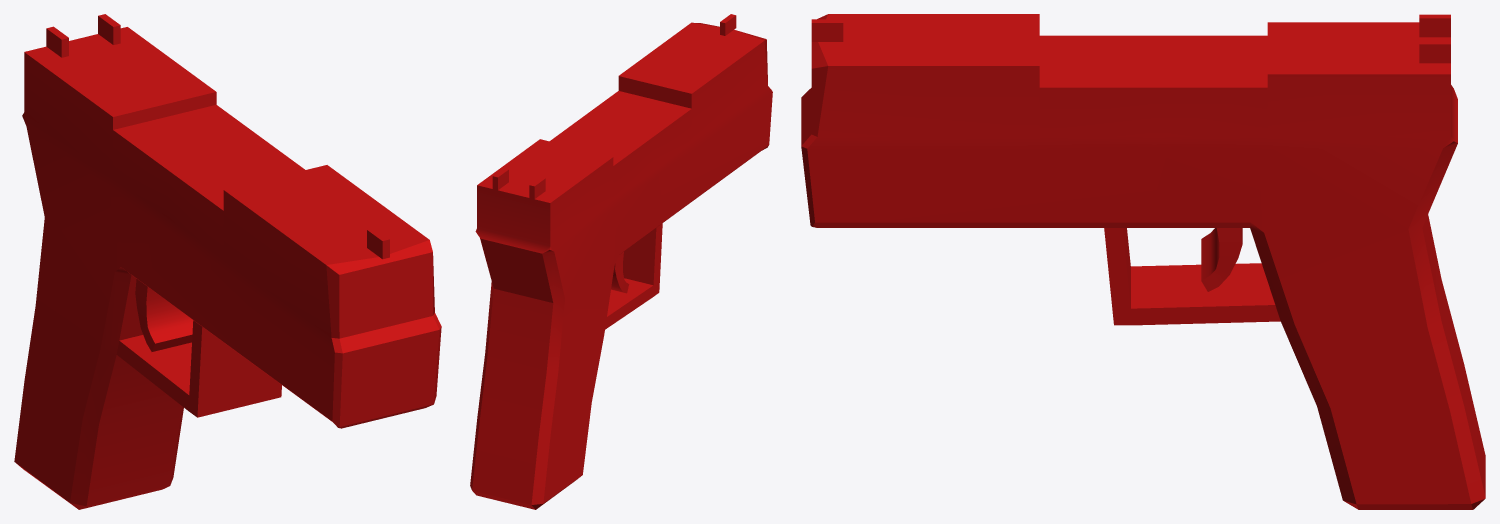
File: SM_Pistol.FBX
3 renders of one model, left to right at view 1: azimuth 30°, elevation 25°; view 2: azimuth 150°, elevation 25°; view 3: azimuth 270°, elevation 25°, orthographic. The views are drawn at different scales.
Visible parts, largest first — view 1: SM_Pistol; view 2: SM_Pistol; view 3: SM_Pistol.
Boxes of the visible parts, x1=… form: SM_Pistol: x1=14, y1=14, x2=441, y2=509; SM_Pistol: x1=470, y1=14, x2=772, y2=509; SM_Pistol: x1=801, y1=14, x2=1485, y2=509.
Bounding box in the file's own units: 4 × 21.54 × 16.23.
